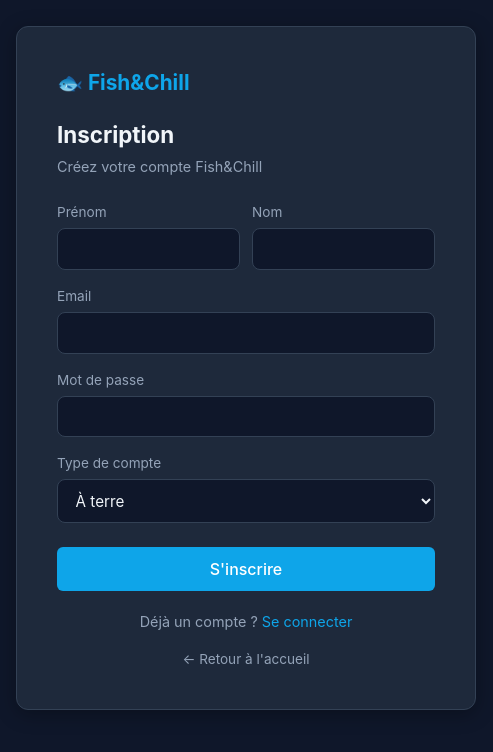
Test: RegisterView › affiche le champ société si rôle client
Select "Client externe" in the dropdown: (246, 501) [57,479,435,523]
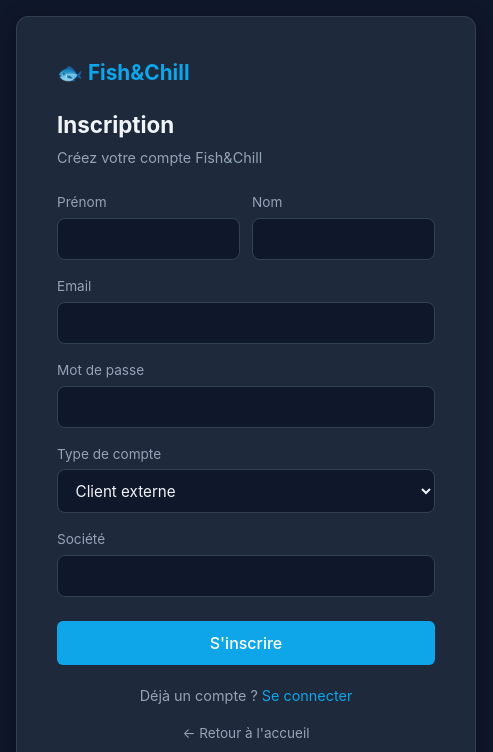
Expected: the text "Société" is shown, [57,531,105,547]
